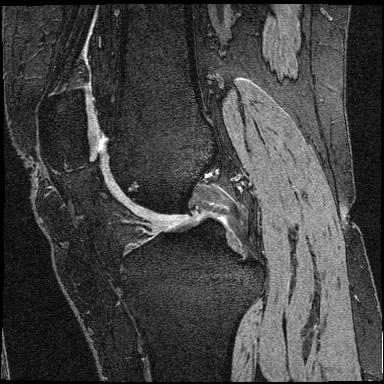SagKneeJointArea: (37, 88, 265, 306)
